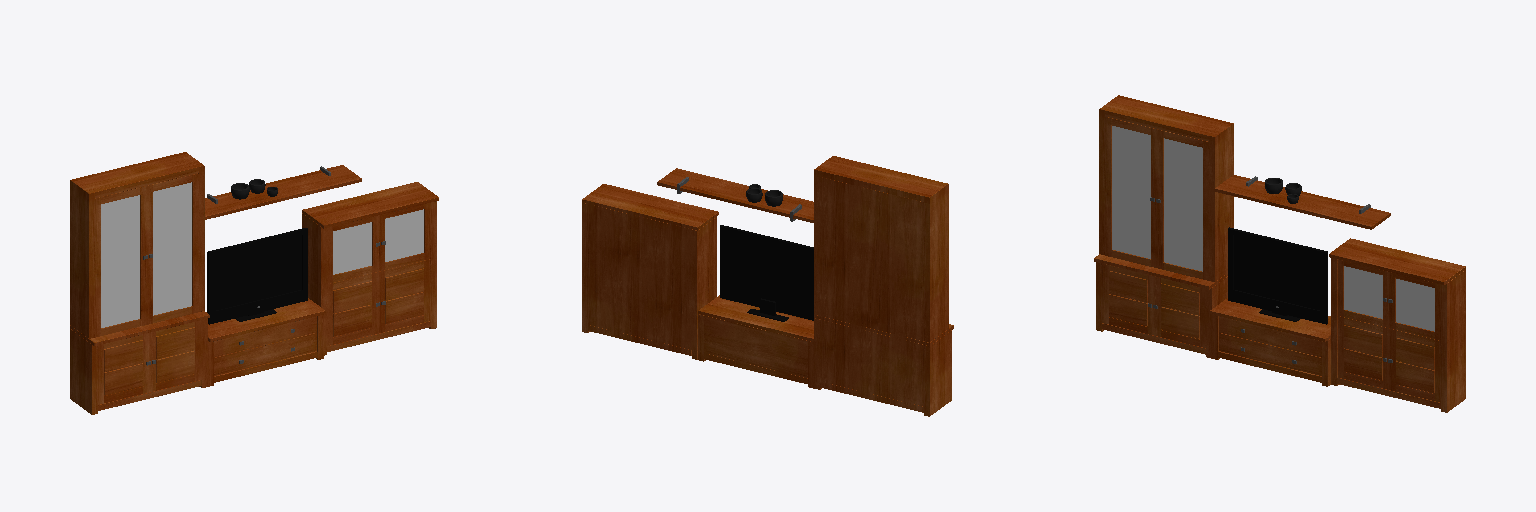
3 renders of one model, left to right at view 1: azimuth 30°, elevation 25°; view 2: azimuth 150°, elevation 25°; view 3: azimuth 330°, elevation 25°, orthographic.
Parts seen in each view (by area): view 1: big_sideboard_Cube, sideboard_Cube.002, tv_Cube.018, closet_Cube.001, shelf_Cube.003; view 2: big_sideboard_Cube, sideboard_Cube.002, tv_Cube.018, closet_Cube.001, shelf_Cube.003; view 3: big_sideboard_Cube, sideboard_Cube.002, tv_Cube.018, closet_Cube.001, shelf_Cube.003.
Part boxes in pixels (left/top/right/bottom): big_sideboard_Cube: left=70, top=152, right=209, bottom=414; sideboard_Cube.002: left=302, top=182, right=438, bottom=355; tv_Cube.018: left=207, top=228, right=307, bottom=324; closet_Cube.001: left=208, top=298, right=325, bottom=386; shelf_Cube.003: left=205, top=165, right=361, bottom=219; big_sideboard_Cube: left=814, top=156, right=953, bottom=416; sideboard_Cube.002: left=582, top=184, right=718, bottom=359; tv_Cube.018: left=720, top=225, right=813, bottom=321; closet_Cube.001: left=698, top=295, right=813, bottom=388; shelf_Cube.003: left=657, top=168, right=813, bottom=222; big_sideboard_Cube: left=1094, top=95, right=1233, bottom=358; sideboard_Cube.002: left=1329, top=238, right=1465, bottom=412; tv_Cube.018: left=1228, top=227, right=1327, bottom=324; closet_Cube.001: left=1210, top=298, right=1330, bottom=386; shelf_Cube.003: left=1215, top=175, right=1390, bottom=229.
Bounding box in the file's own units: 3.31 × 1.99 × 0.4037.
Materials: 8 (1 with a texture image).